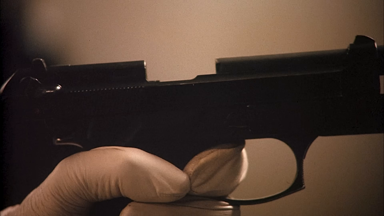firearm: (1, 34, 382, 205)
